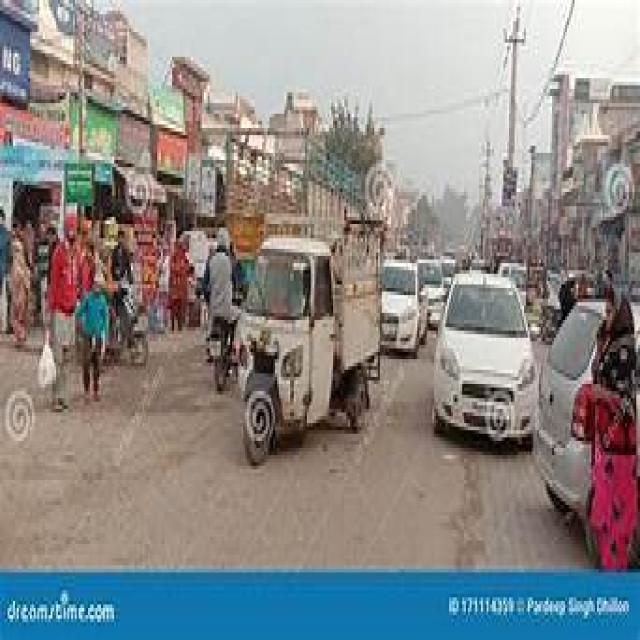Auto: (235, 240, 379, 463)
Car: (381, 259, 603, 514)
Two Wheeler: (209, 318, 234, 391)
